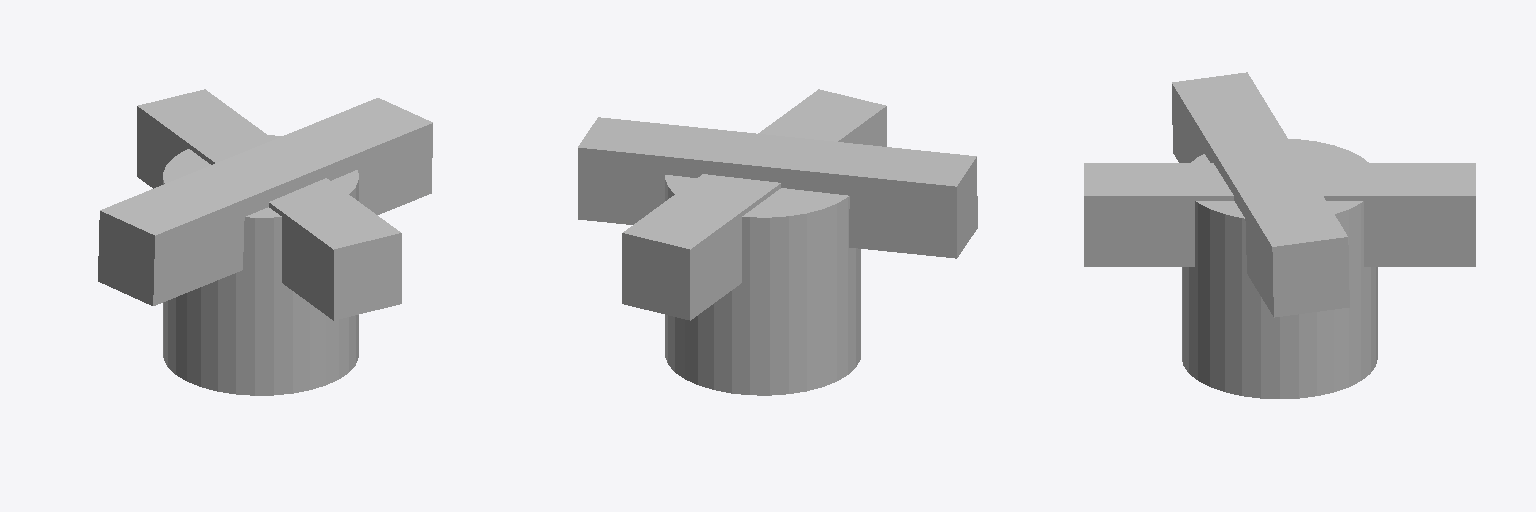
File: palmtree.obj
3 views of the same model, side by side, from view 1: azimuth 30°, elevation 25°; view 2: azimuth 150°, elevation 25°; view 3: azimuth 270°, elevation 25° (orthographic).
Visible parts, largest first — view 1: Cube.001, Cylinder, Cube; view 2: Cube.001, Cylinder, Cube; view 3: Cube, Cylinder, Cube.001.
Part boxes in pixels (bbox=[...]): Cube.001: bbox=[98, 98, 432, 305]; Cylinder: bbox=[163, 135, 358, 395]; Cube: bbox=[137, 89, 401, 320]; Cube.001: bbox=[578, 117, 977, 258]; Cylinder: bbox=[665, 175, 860, 395]; Cube: bbox=[622, 89, 886, 320]; Cube: bbox=[1084, 163, 1475, 266]; Cylinder: bbox=[1182, 139, 1377, 398]; Cube.001: bbox=[1172, 72, 1349, 317].
Bounding box in the file's own units: 2.04 × 1.12 × 2.